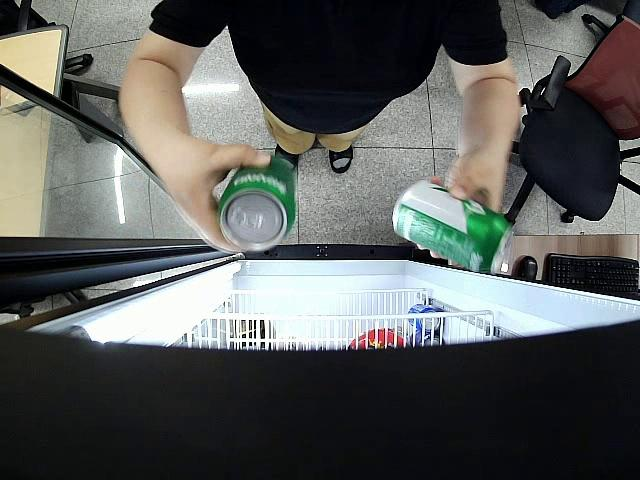00_hand: (168, 142, 272, 251), (418, 155, 507, 268)
12_chilsungCider: (392, 177, 514, 272), (215, 153, 295, 250)
